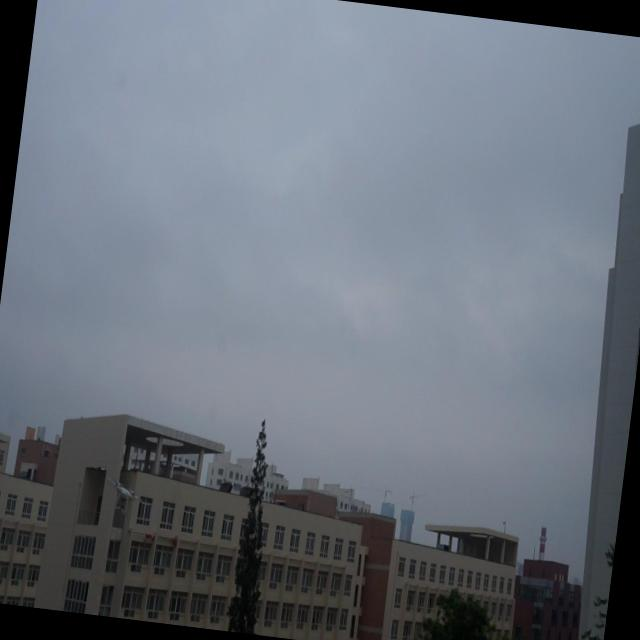drone: (104, 475, 142, 519)
